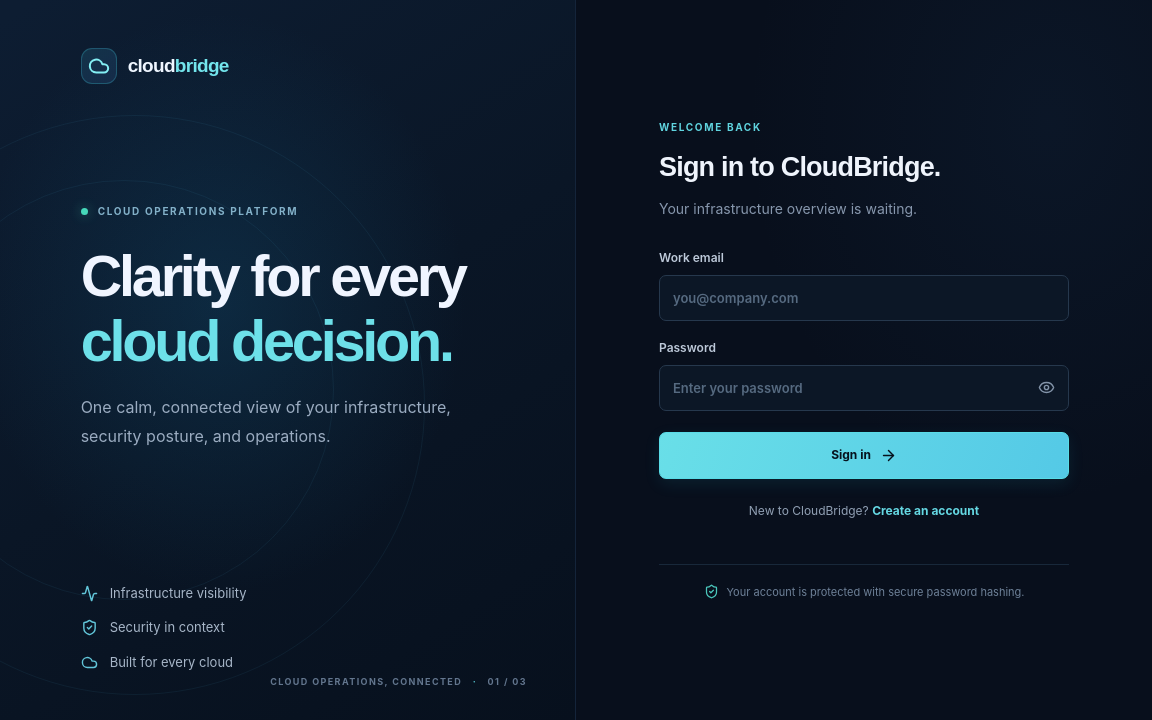
AuthPage › shows a sign-in form and switches to validated registration
Check: the heading "Sign in to CloudBridge." is shown, box [659,152,941,182]
Click the button "Create an account": (926, 510) [872,502,979,520]
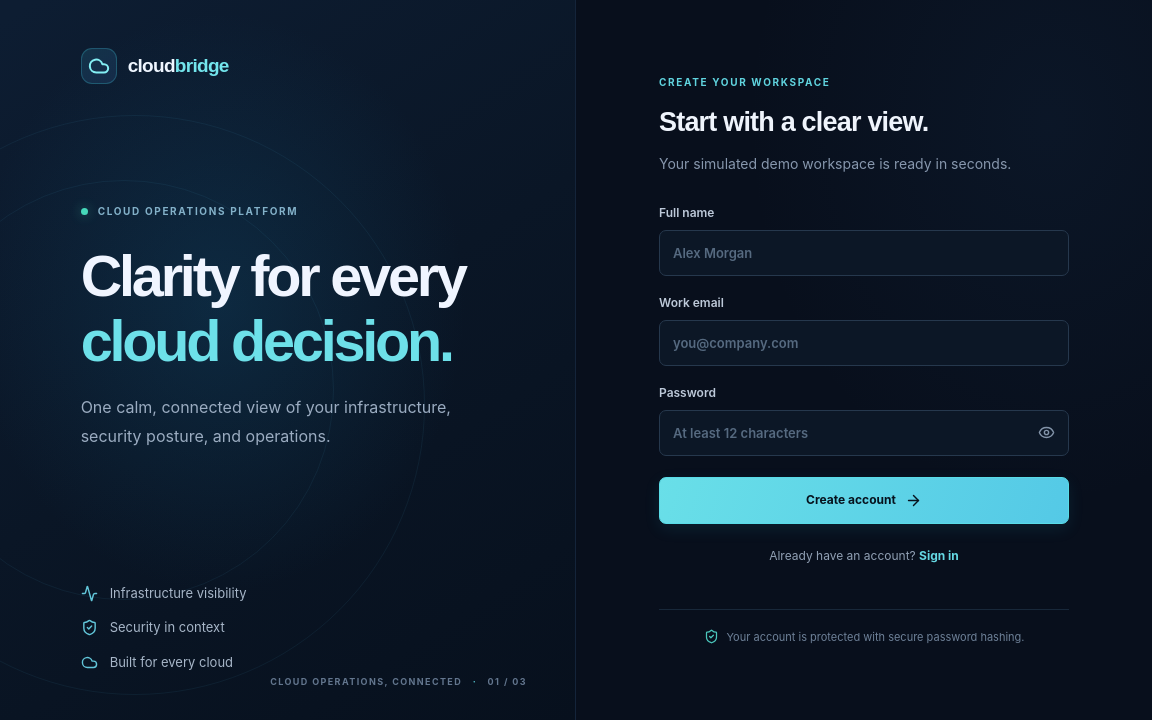
Check: the heading "Start with a clear view." is shown, box [659,107,928,137]
